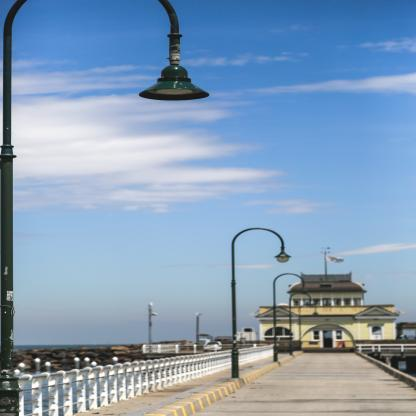light_pole: (0, 0, 210, 415), (231, 228, 293, 378), (271, 273, 309, 363)
